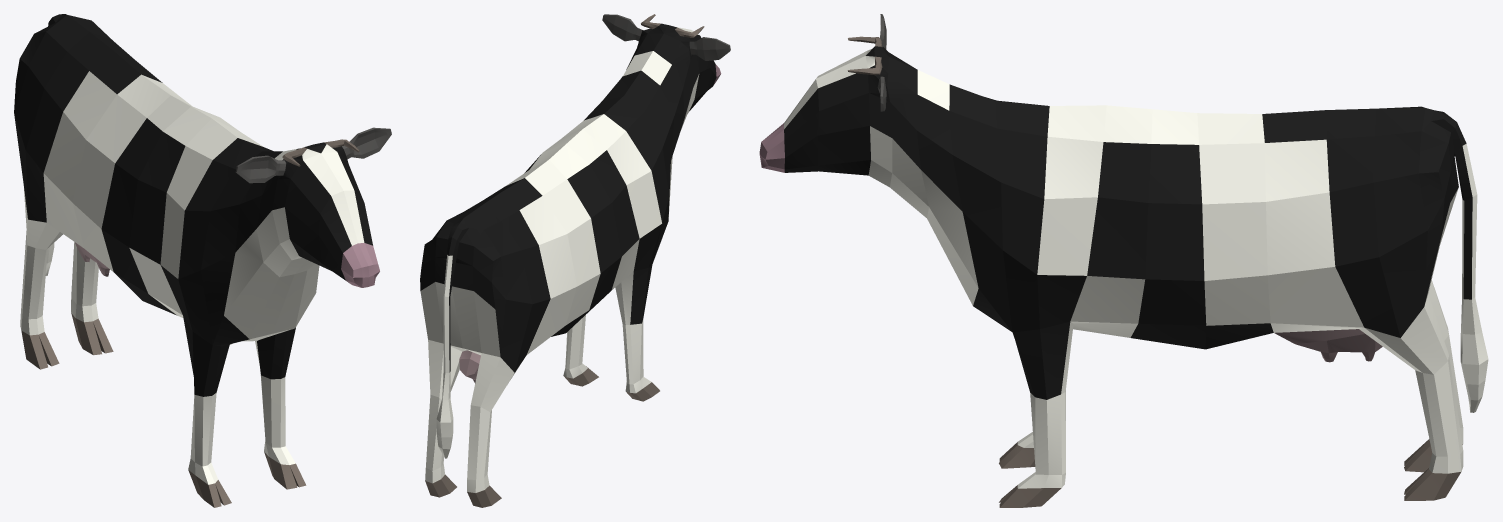
The model's file is cow.dae.
The picture shows the model from 3 angles, left to right: view 1: azimuth 30°, elevation 25°; view 2: azimuth 150°, elevation 25°; view 3: azimuth 270°, elevation 25°; orthographic projection. The views are drawn at different scales.
Visible parts, largest first — view 1: 13cowFinal; view 2: 13cowFinal; view 3: 13cowFinal.
Part boxes in pixels (<box>): 13cowFinal: <box>14,14,391,507</box>; 13cowFinal: <box>420,14,730,507</box>; 13cowFinal: <box>759,14,1488,507</box>.
Bounding box in the file's own units: 0.6881 × 2.54 × 1.66.
